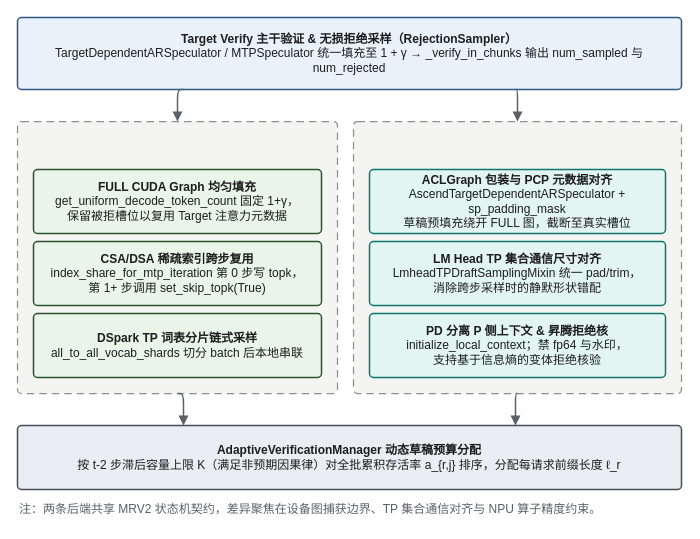
Some shapes in this 700 by 539 pixel diagram are drawn without their labels. The box of each missing label's shape, as (x1, y1, x2, y2) in pixels:
NVIDIA GPU：vLLM MRV2: (16, 120, 338, 394)
昇腾 NPU：vLLM-Ascend V2: (352, 120, 682, 394)
